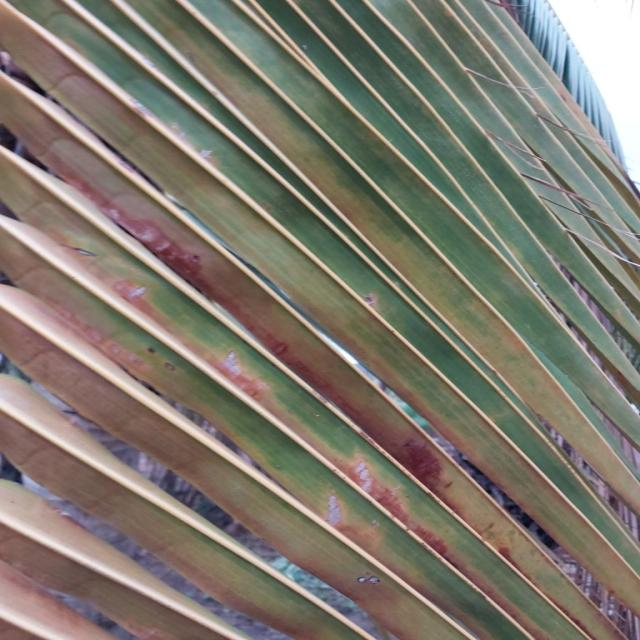gray leaf spot: (0, 27, 455, 639)
